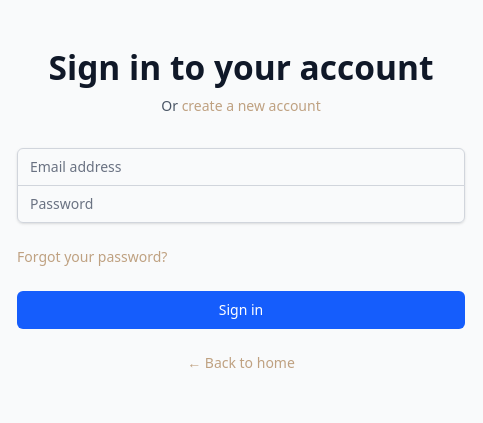
Test: Login › form submission › should display error message on ApiError
Type "test@example.com" into the field labelled "Email address".
click(241, 167); type("test@example.com")  # box [17,148,465,186]
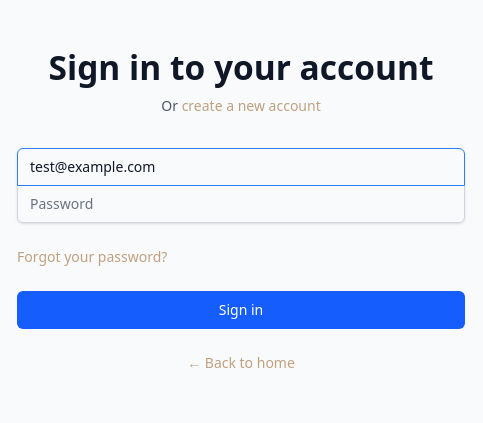
Type "wrongpassword" into the password field labelled "Password".
click(241, 204); type("wrongpassword")  # box [17,185,465,223]
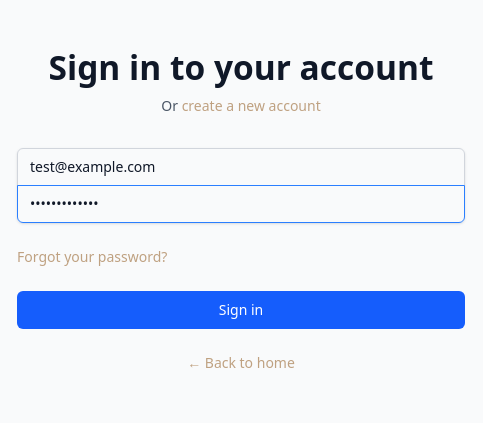
Click the button "Sign in".
click(241, 310)  # box [17,291,465,329]
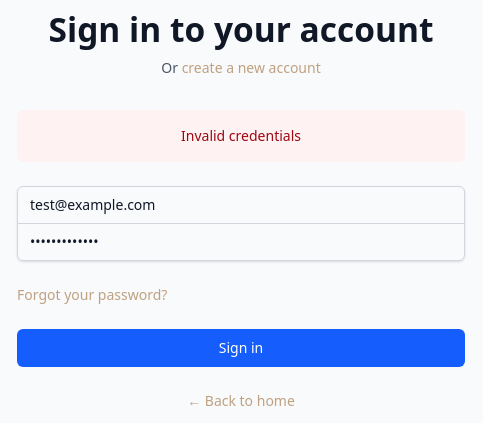
Expected: the text "Invalid credentials" is shown, [181,126,301,145]
